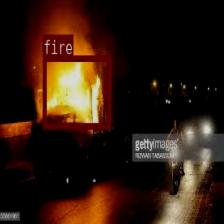fire: (42, 55, 110, 128)
